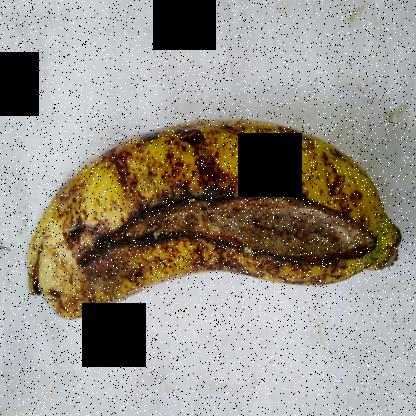rotten: (55, 166, 380, 328)
